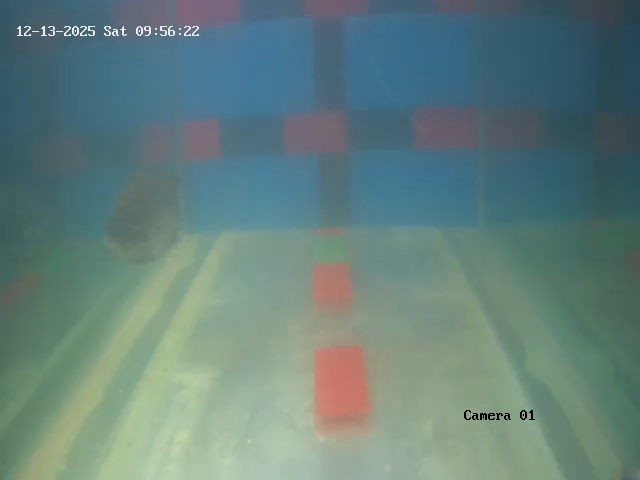fish: (100, 164, 192, 272)
